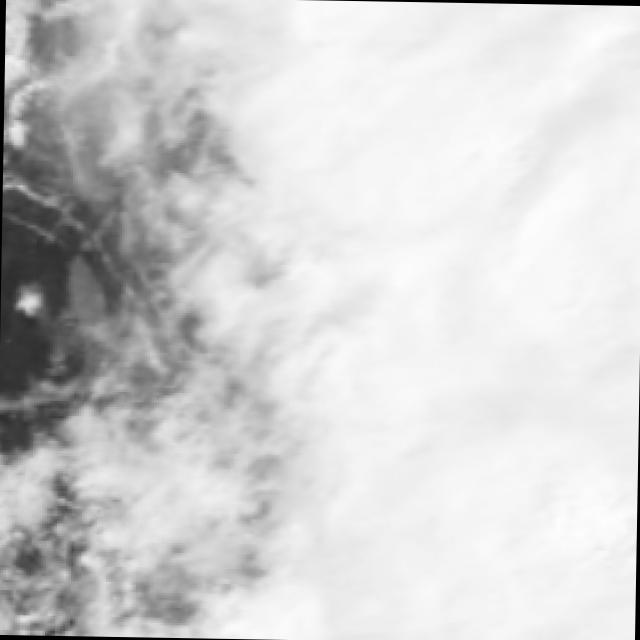CB: (256, 192, 465, 420), (252, 0, 479, 192), (243, 407, 430, 640), (443, 157, 640, 358), (86, 0, 297, 186), (414, 486, 637, 640), (432, 350, 639, 510), (449, 2, 640, 156)
